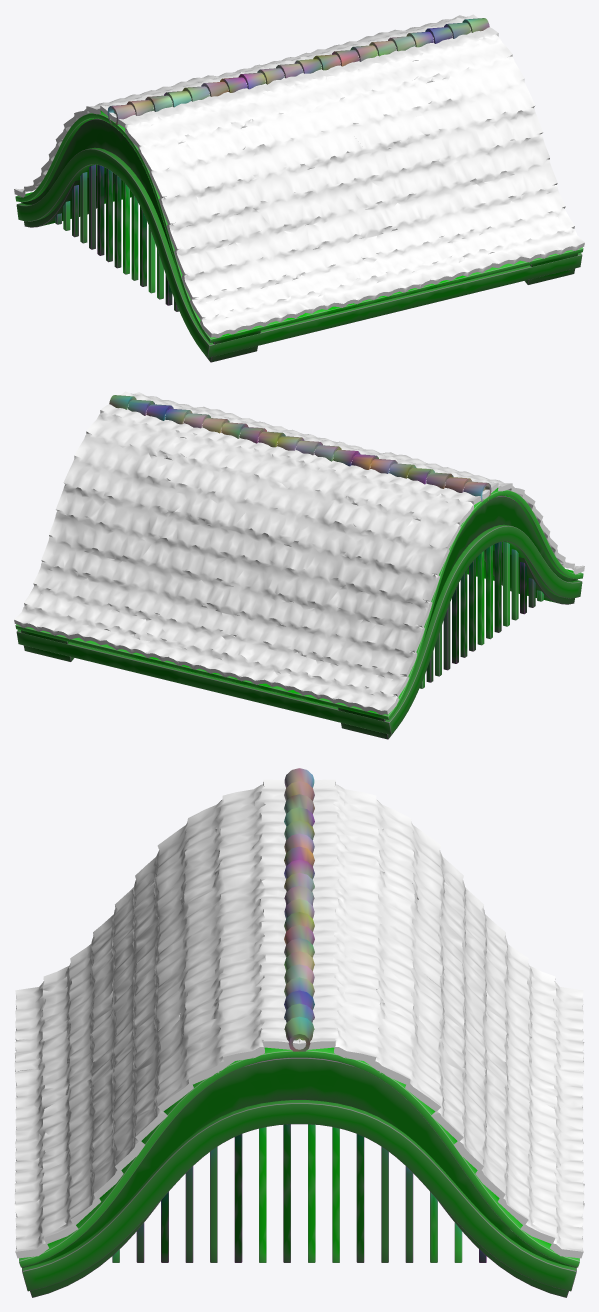
File: wall_roof_arch_2b_opp_01.fbx
3 renders of one model, top to bottom at view 1: azimuth 30°, elevation 25°; view 2: azimuth 150°, elevation 25°; view 3: azimuth 270°, elevation 25°, orthographic. The views are drawn at different scales.
Visible parts, largest first — view 1: wall_roof_arch_2b_opp_01; view 2: wall_roof_arch_2b_opp_01; view 3: wall_roof_arch_2b_opp_01.
Part boxes in pixels (x1,y1,x2,y2): wall_roof_arch_2b_opp_01: (14, 14, 584, 362); wall_roof_arch_2b_opp_01: (14, 391, 584, 739); wall_roof_arch_2b_opp_01: (14, 768, 584, 1297).
Size of the model in its own units: 4 by 1.94 by 3.69.
